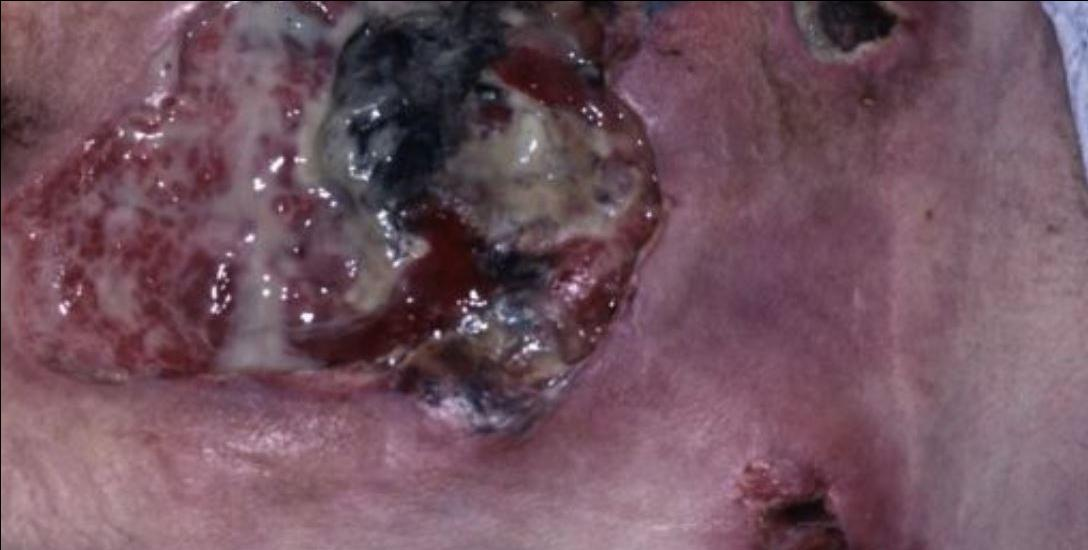Stage3: (9, 0, 702, 503)
